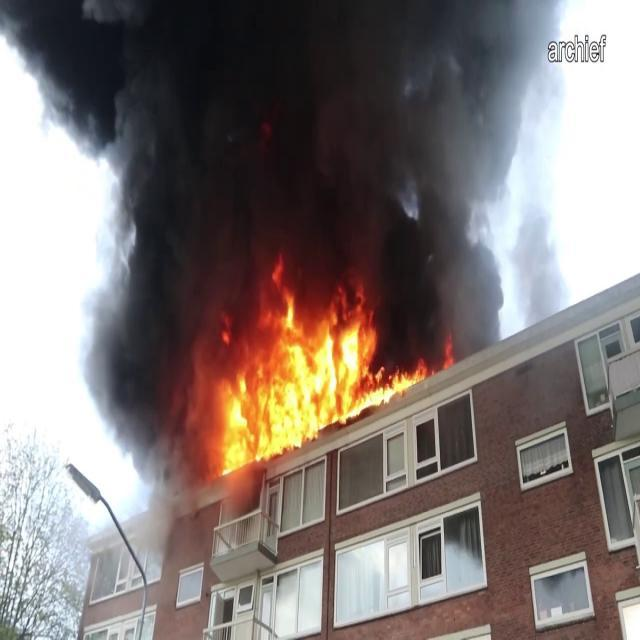Fire: (206, 288, 418, 468)
Smoke: (4, 1, 551, 400)
